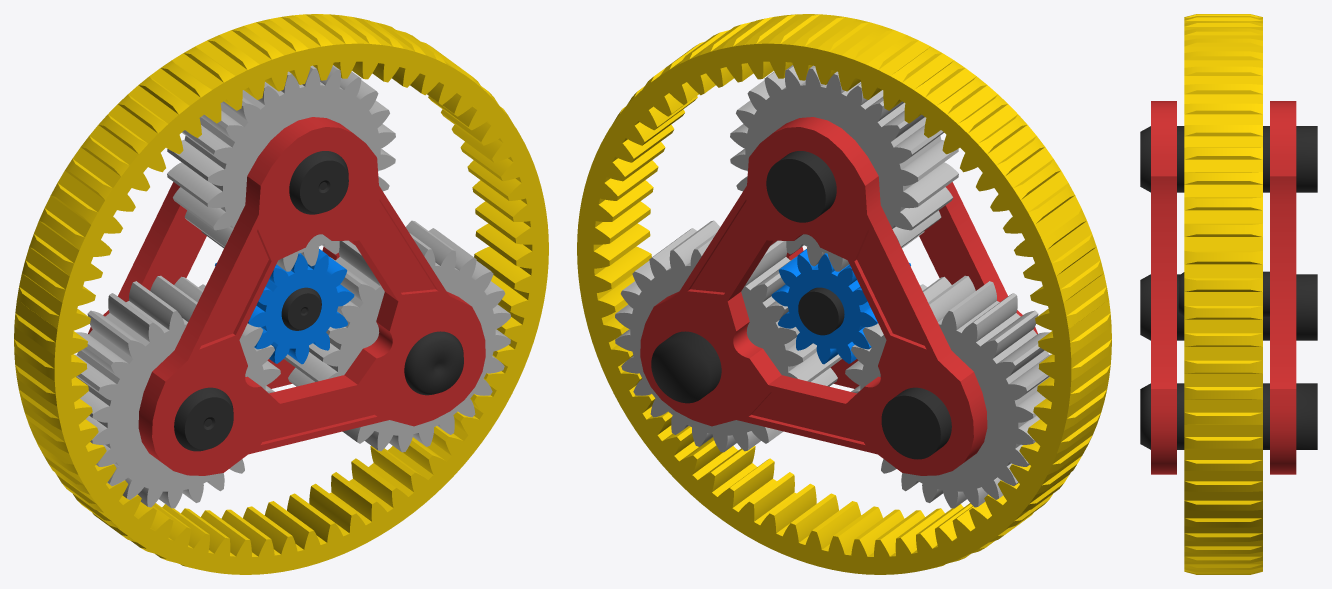
The picture shows the model from 3 angles, left to right: view 1: azimuth 30°, elevation 25°; view 2: azimuth 150°, elevation 25°; view 3: azimuth 270°, elevation 25°; orthographic projection. The views are drawn at different scales.
Visible parts, largest first — view 1: Ring Gear.001, Carrier, Pinion Gear.002, Pinion Gear, Pinion Gear.001, Sun Gear, Pinion Shaft.002, Pinion Shaft.001, Pinion Shaft, Sun Shaft; view 2: Ring Gear.001, Carrier, Pinion Gear.002, Pinion Gear, Pinion Gear.001, Sun Gear, Pinion Shaft.001, Pinion Shaft.002, Pinion Shaft, Sun Shaft; view 3: Ring Gear.001, Carrier, Pinion Shaft, Pinion Shaft.001, Pinion Shaft.002, Sun Shaft.
Part boxes in pixels (x1,y1,x2,y2): Ring Gear.001: [14, 14, 548, 574]; Carrier: [88, 117, 485, 475]; Pinion Gear.002: [75, 275, 280, 508]; Pinion Gear: [167, 65, 395, 271]; Pinion Gear.001: [284, 220, 510, 452]; Sun Gear: [215, 249, 354, 364]; Pinion Shaft.002: [174, 387, 233, 451]; Pinion Shaft.001: [404, 331, 463, 395]; Pinion Shaft: [289, 151, 348, 214]; Sun Shaft: [281, 287, 321, 330]; Ring Gear.001: [577, 14, 1111, 574]; Carrier: [640, 117, 1037, 475]; Pinion Gear.002: [845, 275, 1050, 508]; Pinion Gear: [730, 65, 958, 271]; Pinion Gear.001: [615, 220, 841, 452]; Sun Gear: [771, 249, 910, 364]; Pinion Shaft.001: [651, 331, 721, 403]; Pinion Shaft.002: [881, 387, 951, 459]; Pinion Shaft: [766, 151, 836, 222]; Sun Shaft: [798, 287, 844, 335]; Ring Gear.001: [1184, 14, 1262, 574]; Carrier: [1151, 101, 1296, 474]; Pinion Shaft: [1140, 126, 1317, 192]; Pinion Shaft.001: [1140, 383, 1317, 449]; Pinion Shaft.002: [1140, 274, 1317, 340]; Sun Shaft: [1178, 271, 1269, 317].
Size of the model in its own units: 6.41 by 6.41 by 2.03.
